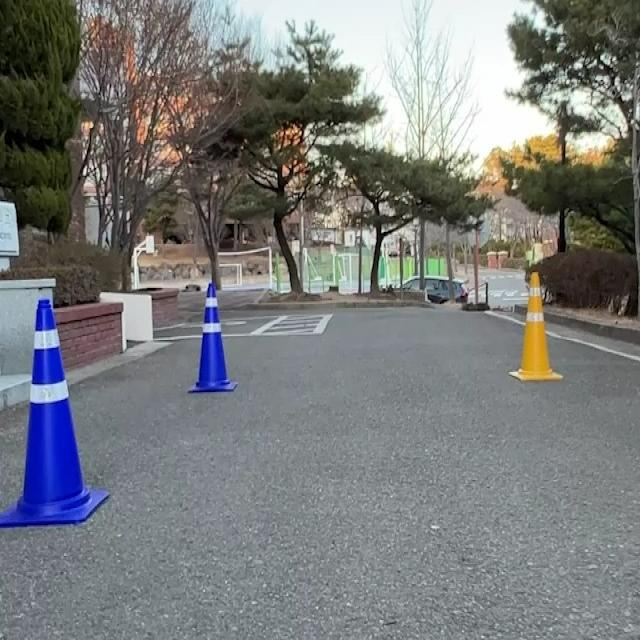b_rub: (0, 299, 108, 528), (189, 283, 237, 393)
y_rub: (511, 272, 564, 381)
